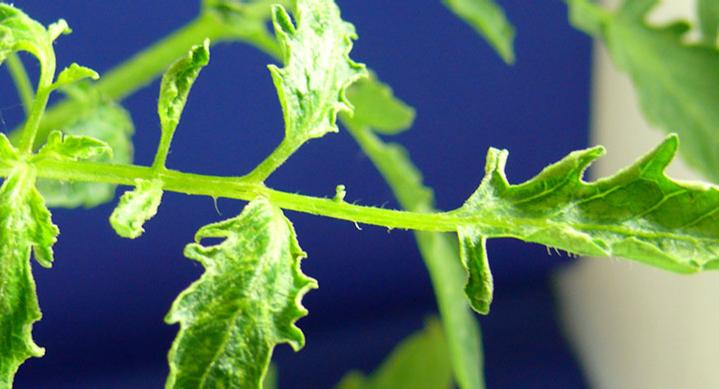Tomato leaf mosaic virus: (428, 148, 719, 305), (127, 195, 335, 389), (0, 171, 94, 389), (256, 0, 377, 150)
